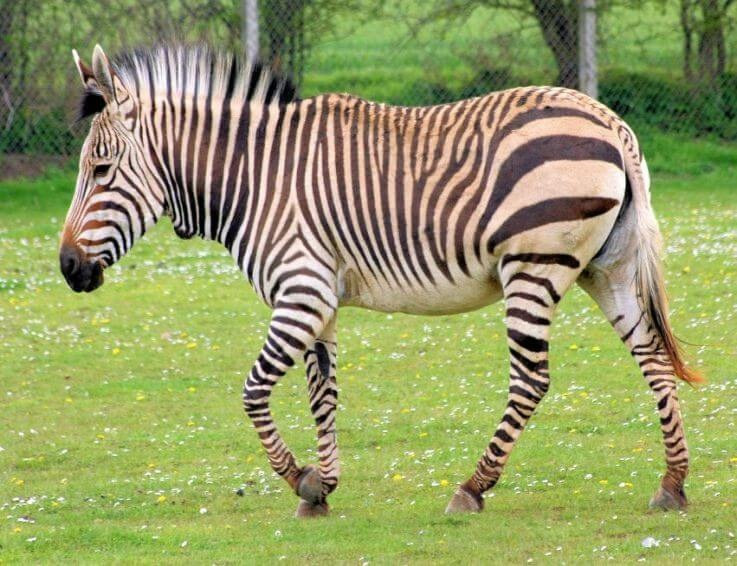zebra: (55, 43, 703, 523)
